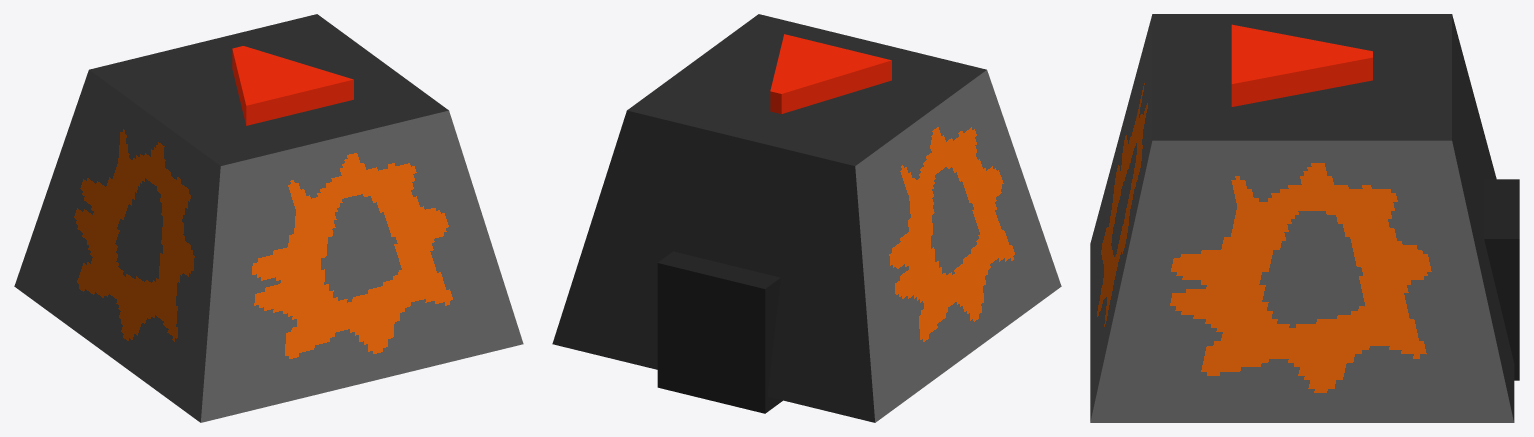
Rendered from assembler.obj.
The picture shows the model from 3 angles, left to right: view 1: azimuth 30°, elevation 25°; view 2: azimuth 150°, elevation 25°; view 3: azimuth 270°, elevation 25°; orthographic projection. The views are drawn at different scales.
Parts seen in each view (by area): view 1: Cube; view 2: Cube; view 3: Cube.
Part boxes in pixels (x1,y1,x2,y2): Cube: (14, 14, 523, 422); Cube: (552, 14, 1061, 422); Cube: (1090, 14, 1519, 422).
Size of the model in its own units: 3.38 by 2.6 by 3.42.
